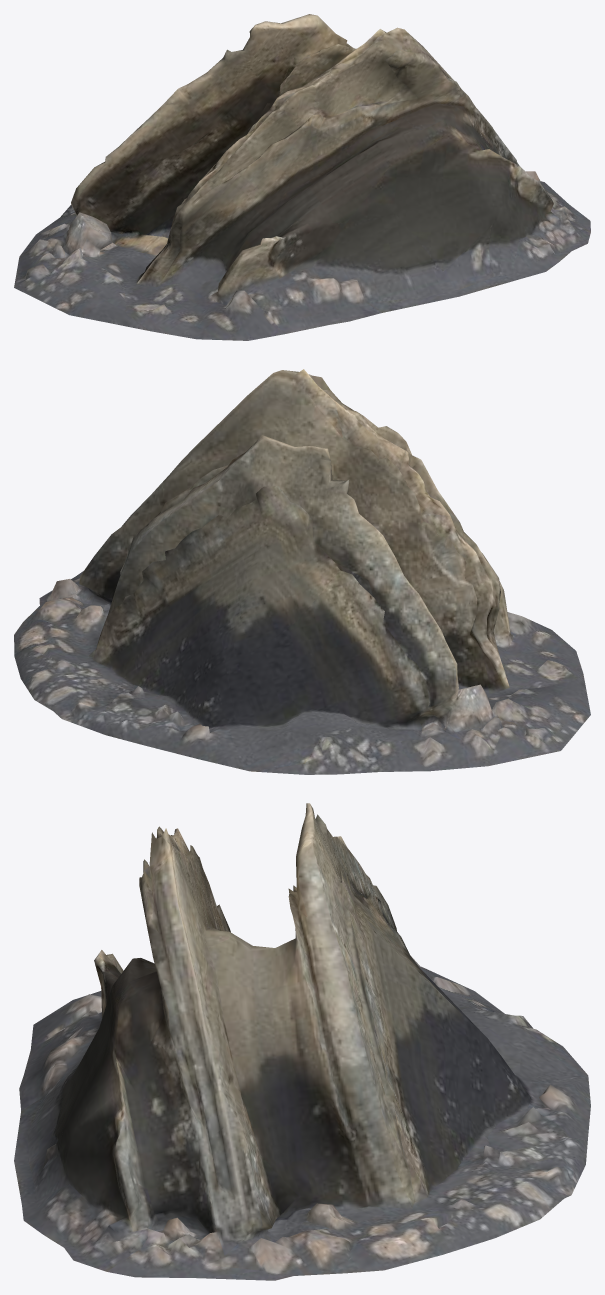
File: rock_formation.glb
The picture shows the model from 3 angles, top to bottom: view 1: azimuth 30°, elevation 25°; view 2: azimuth 150°, elevation 25°; view 3: azimuth 270°, elevation 25°; orthographic projection. The views are drawn at different scales.
Parts seen in each view (by area): view 1: Megascans rock_formation; view 2: Megascans rock_formation; view 3: Megascans rock_formation.
Boxes of the visible parts, bbox=[...] form: Megascans rock_formation: bbox=[14, 14, 590, 340]; Megascans rock_formation: bbox=[14, 369, 590, 774]; Megascans rock_formation: bbox=[14, 803, 590, 1280].
Size of the model in its own units: 1.73 by 0.7655 by 1.26.
Materials: 1 (1 with a texture image).
